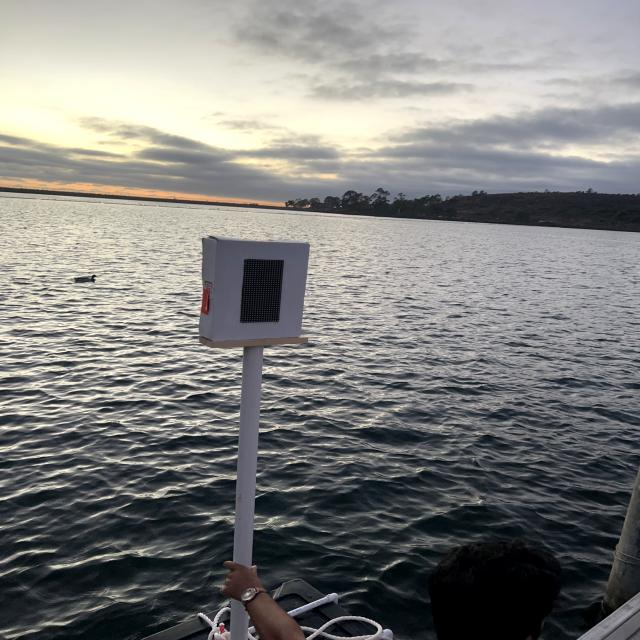led: (212, 232, 302, 344)
